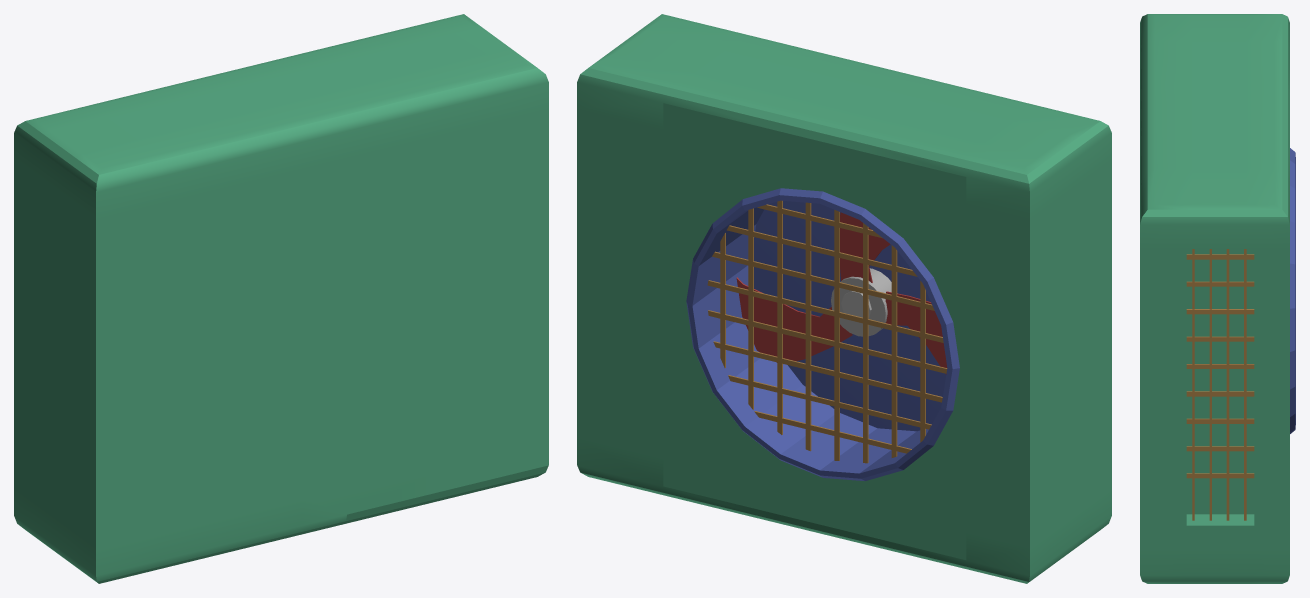
The model's file is Air_con.fbx.
The picture shows the model from 3 angles, left to right: view 1: azimuth 30°, elevation 25°; view 2: azimuth 150°, elevation 25°; view 3: azimuth 270°, elevation 25°; orthographic projection. The views are drawn at different scales.
Parts seen in each view (by area): view 1: Air_con; view 2: Air_con; view 3: Air_con.
Part boxes in pixels (<box>): Air_con: <box>14,14,548,583</box>; Air_con: <box>577,14,1111,583</box>; Air_con: <box>1140,14,1295,583</box>.
Size of the model in its own units: 5.71 by 4.98 by 1.86.
